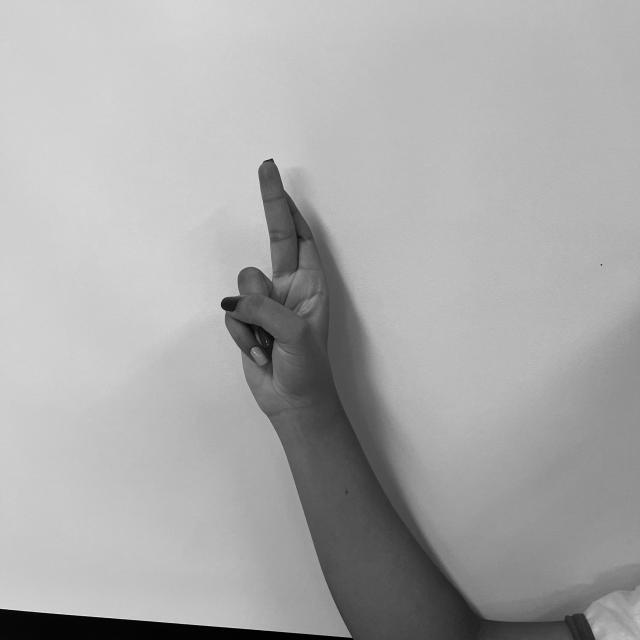Letra R: (214, 153, 337, 396)
